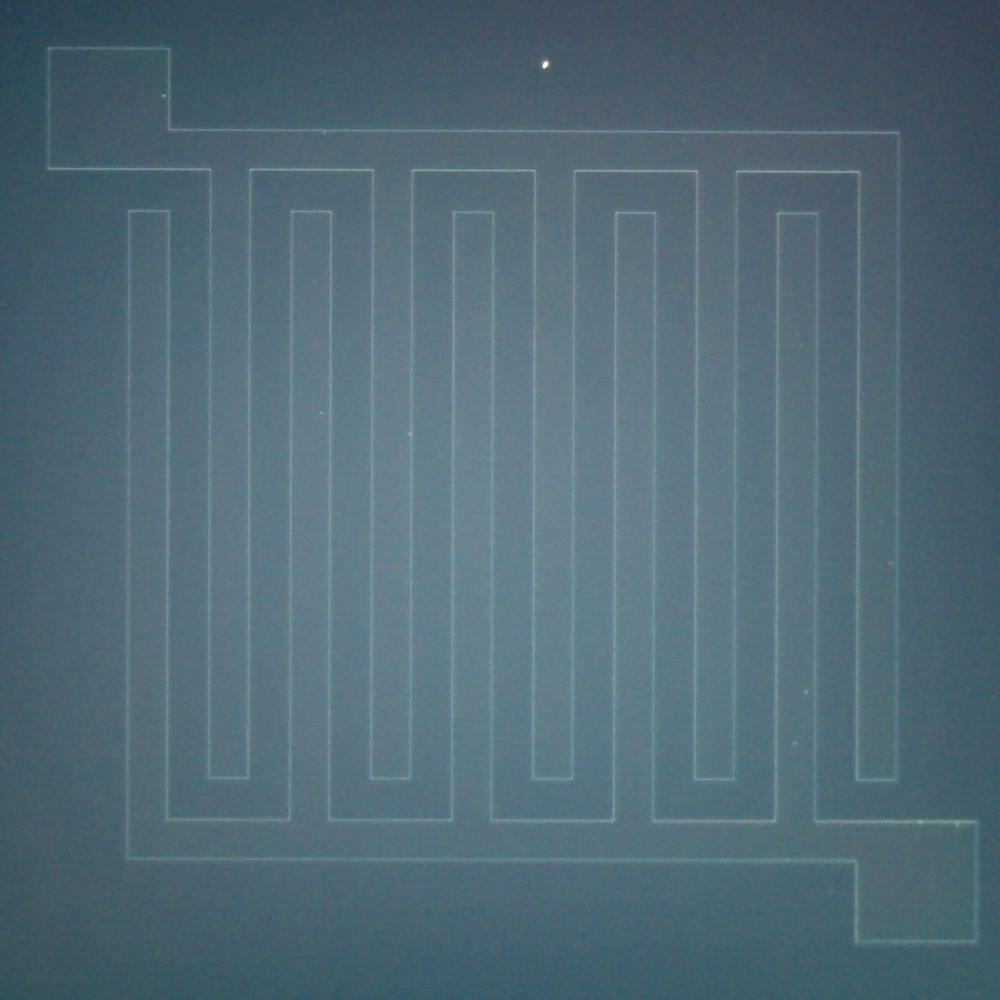dot: (318, 410, 324, 416), (542, 62, 548, 68), (792, 740, 798, 746), (162, 94, 166, 98), (804, 690, 808, 694), (955, 822, 959, 826), (322, 131, 326, 134)
